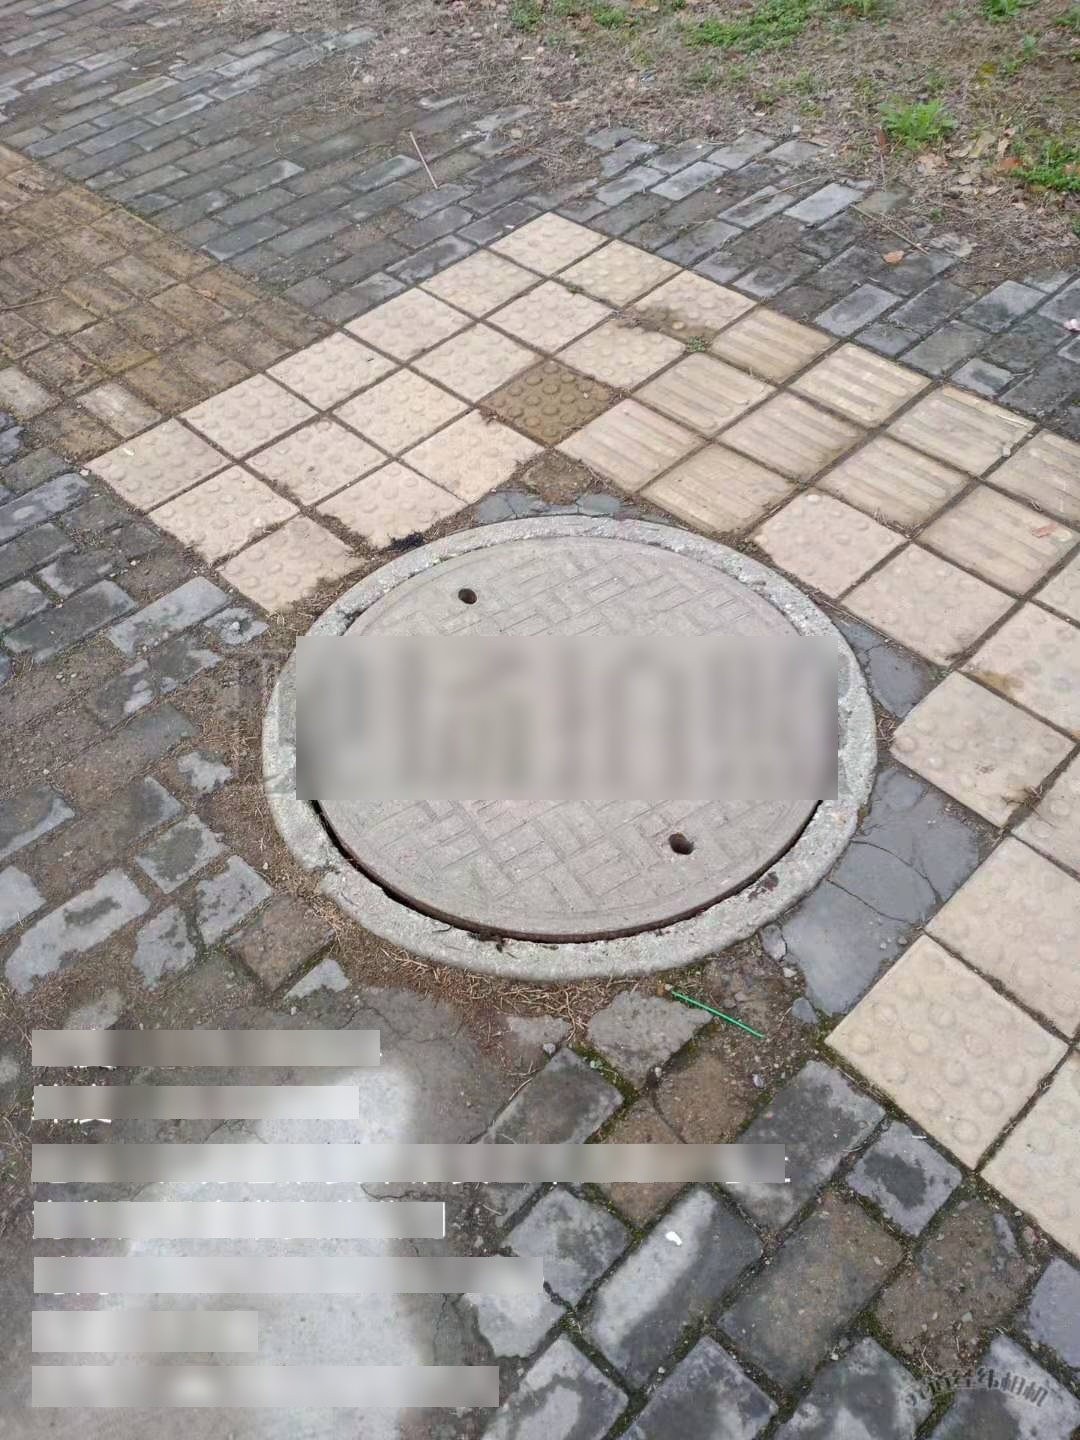good: (258, 516, 875, 983)
